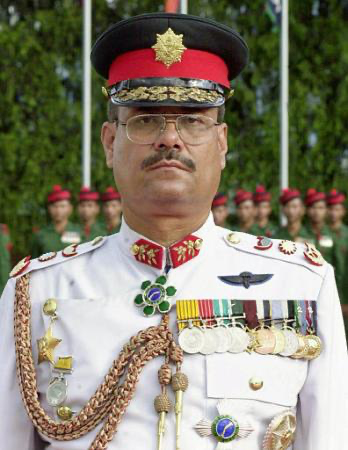Face: (104, 83, 229, 220)
